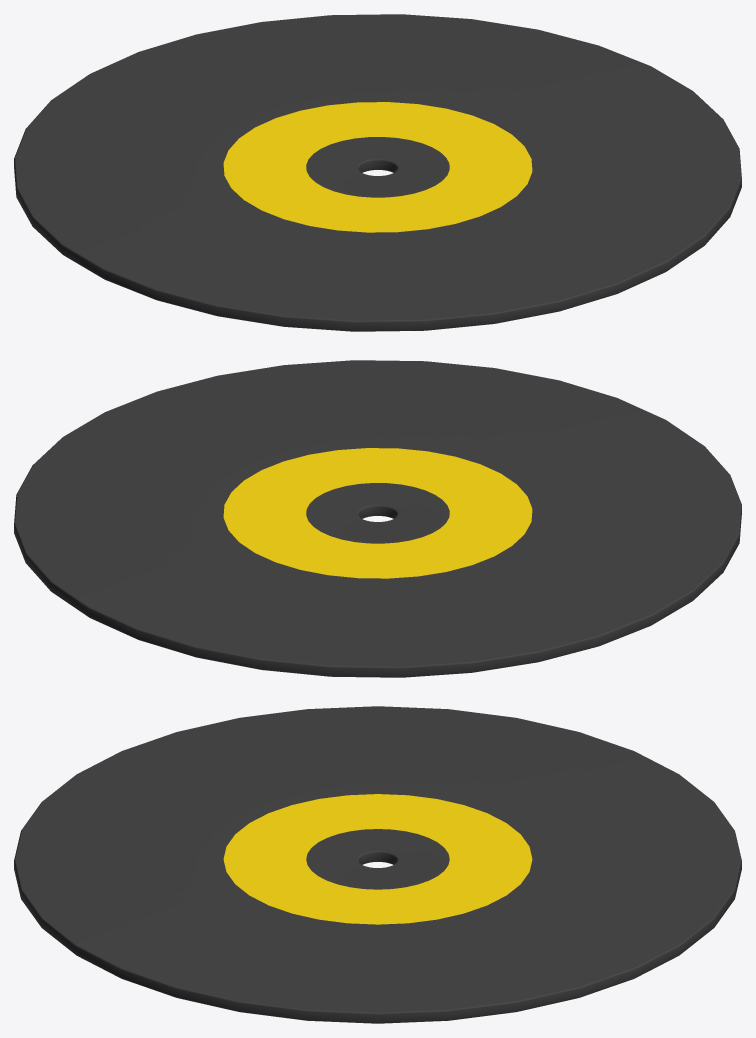
File: Store_13_Vinyl_1.glb
3 renders of one model, top to bottom at view 1: azimuth 30°, elevation 25°; view 2: azimuth 150°, elevation 25°; view 3: azimuth 270°, elevation 25°, orthographic.
Parts seen in each view (by area): view 1: Store_13_Vinyl_1; view 2: Store_13_Vinyl_1; view 3: Store_13_Vinyl_1.
Boxes of the visible parts, x1,y1,x2,y2 form: Store_13_Vinyl_1: [14, 14, 741, 331]; Store_13_Vinyl_1: [14, 360, 741, 677]; Store_13_Vinyl_1: [14, 706, 741, 1023].
Bounding box in the file's own units: 0.413 × 0.00711 × 0.413.
Materials: 1 (1 with a texture image).
